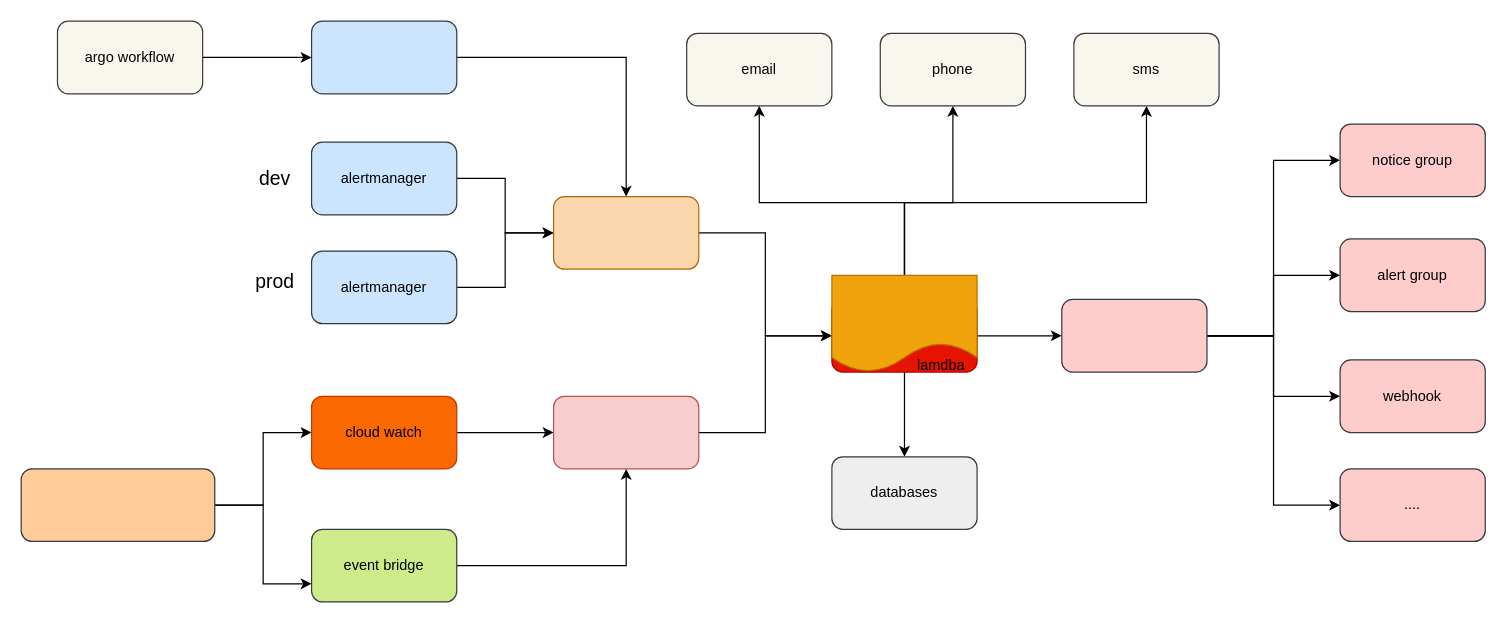
Image size: 1506x623. Some labels were removed from this diagram. Each missing label, with the centre of its shape:
api gateway: [625,232]
ec2/lb/RDS/elastcache/EKS: [117,504]
feishu-bot: [1134,335]
message center: [904,323]
sns: [625,432]
自动化脚本: [383,57]
